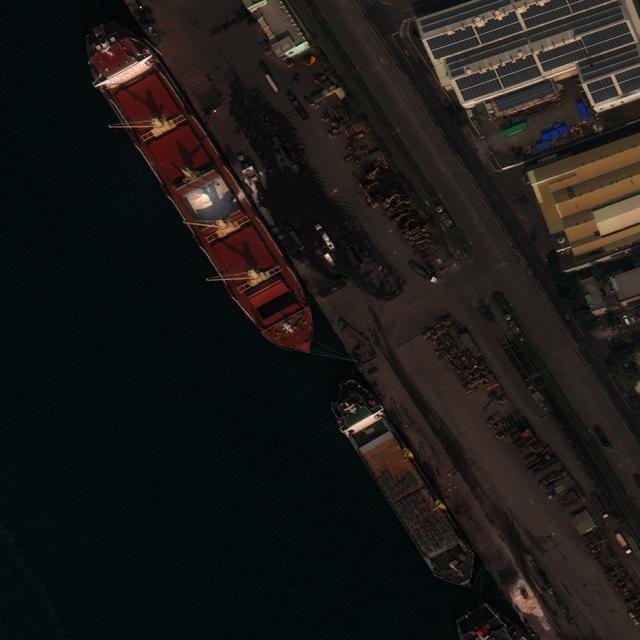Cargo: (321, 374, 489, 597), (454, 602, 530, 640)
Container Ship: (73, 14, 336, 370)
